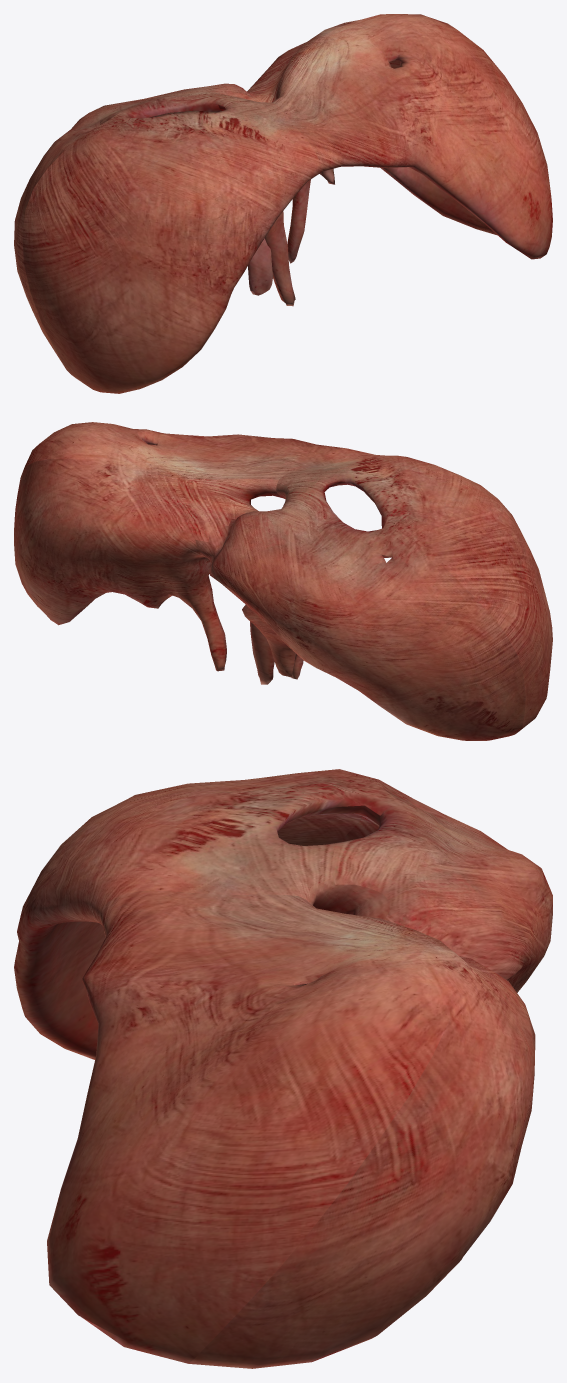
Rendered from Adam_Diafragma.dae.
3 views of the same model, one above another, from view 1: azimuth 30°, elevation 25°; view 2: azimuth 150°, elevation 25°; view 3: azimuth 270°, elevation 25° (orthographic). The views are drawn at different scales.
Visible parts, largest first — view 1: 1.003; view 2: 1.003; view 3: 1.003.
Part boxes in pixels (x1,y1,x2,y2): 1.003: (14, 14, 552, 393); 1.003: (14, 422, 552, 740); 1.003: (14, 769, 552, 1368).
Bounding box in the file's own units: 8.58 × 4.97 × 4.05.
Materials: 1 (1 with a texture image).
